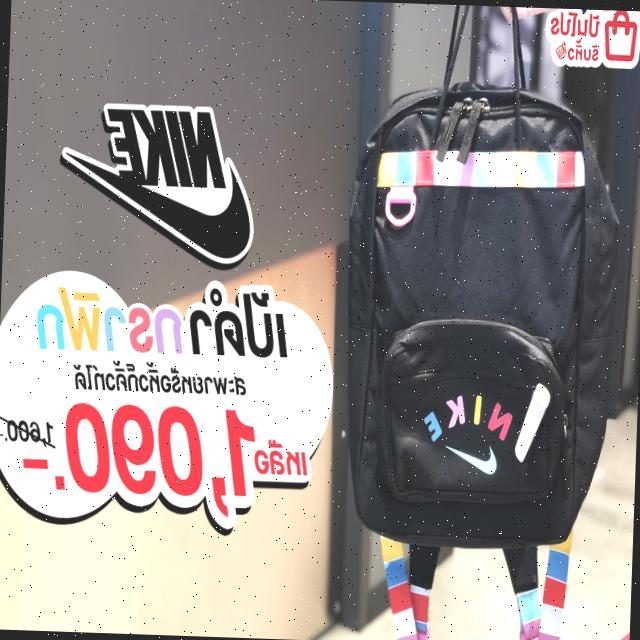handbag: (312, 73, 623, 559)
